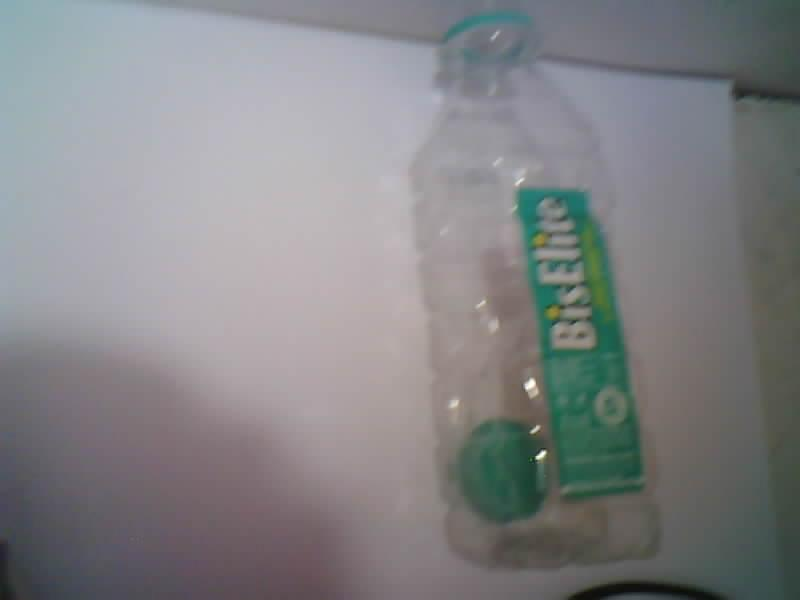non-biodegradable: (413, 9, 659, 568)
